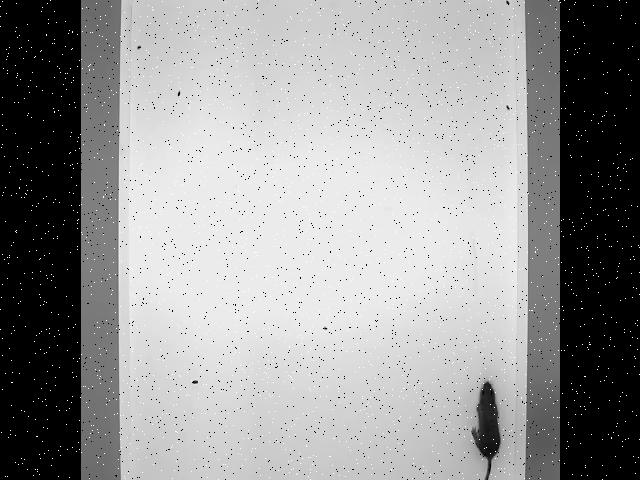Tikus: (447, 380, 503, 480)
